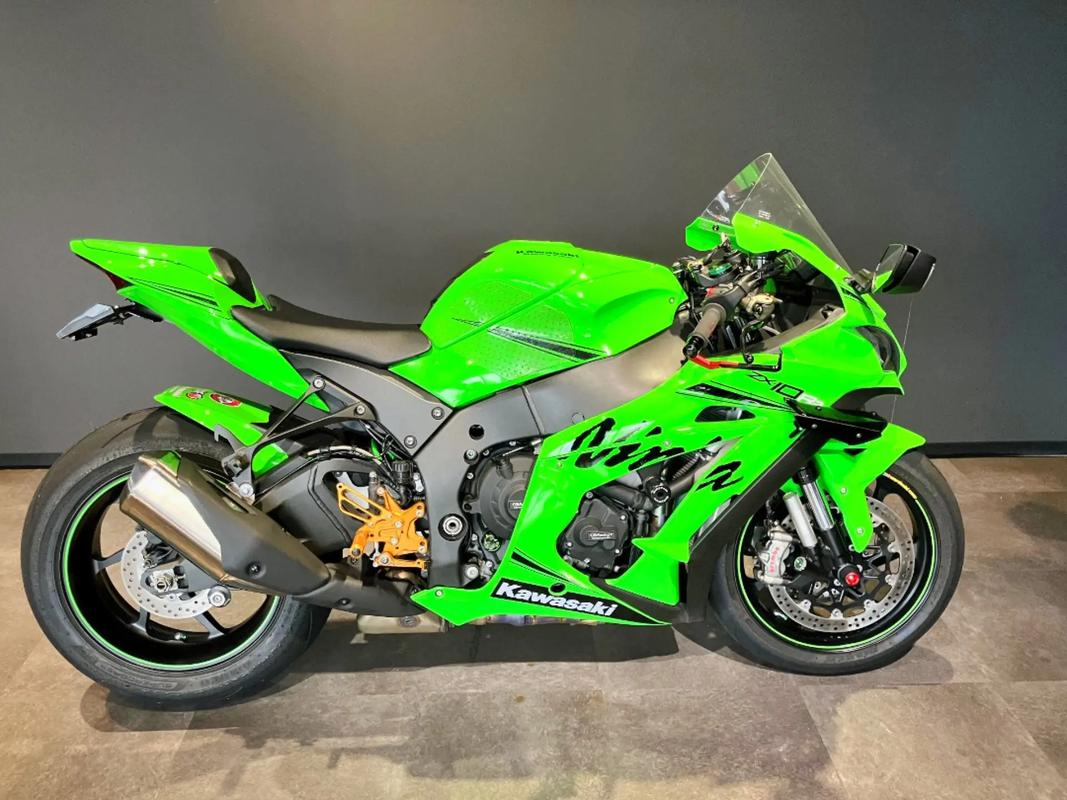摩托车: (20, 143, 1013, 698)
